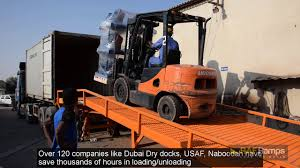Pallet Jack: (94, 9, 218, 123)
Yard Ramp: (57, 86, 300, 167)
